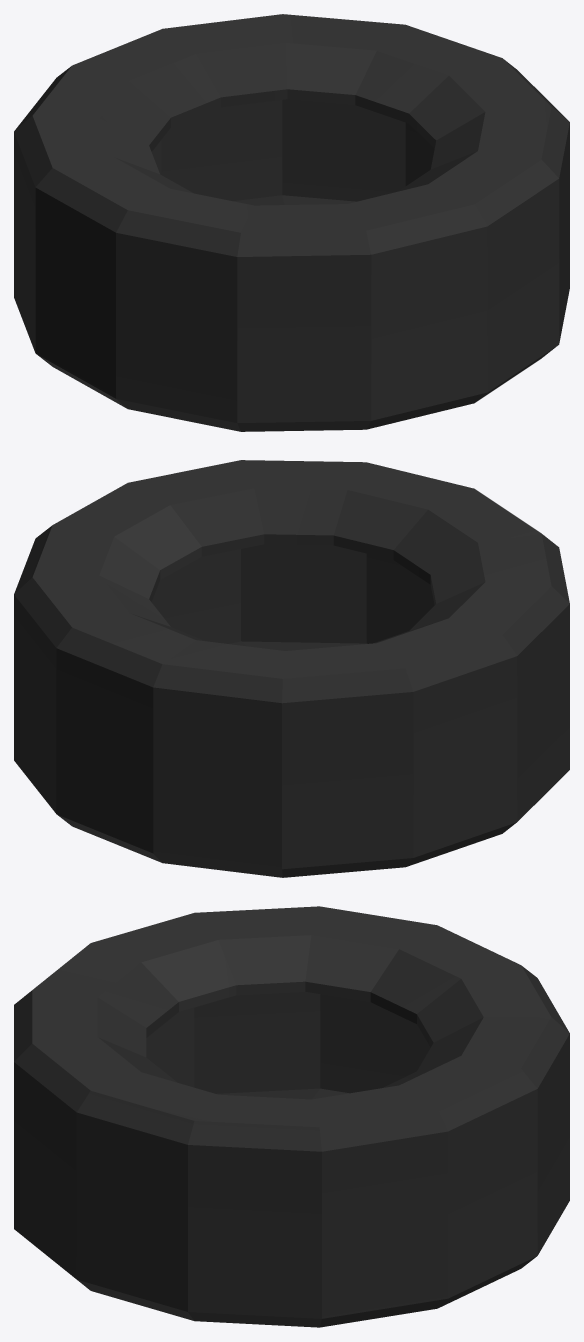
The model's file is Tire.fbx.
3 views of the same model, one above another, from view 1: azimuth 30°, elevation 25°; view 2: azimuth 150°, elevation 25°; view 3: azimuth 270°, elevation 25° (orthographic).
Visible parts, largest first — view 1: Tire; view 2: Tire; view 3: Tire.
Part boxes in pixels (left/top/right/bottom): Tire: left=14, top=14, right=569, bottom=431; Tire: left=14, top=460, right=569, bottom=877; Tire: left=14, top=906, right=569, bottom=1327.
Size of the model in its own units: 58.15 by 22.94 by 57.72.
